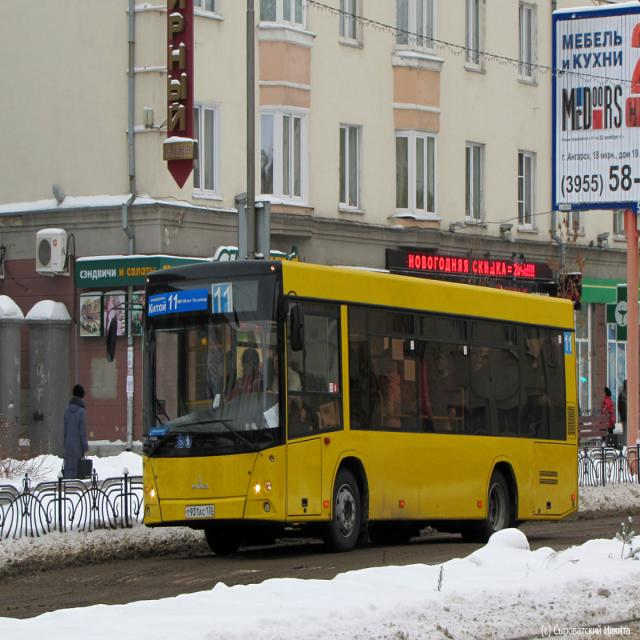number-of-bus: (213, 286, 233, 314), (169, 294, 179, 311)
